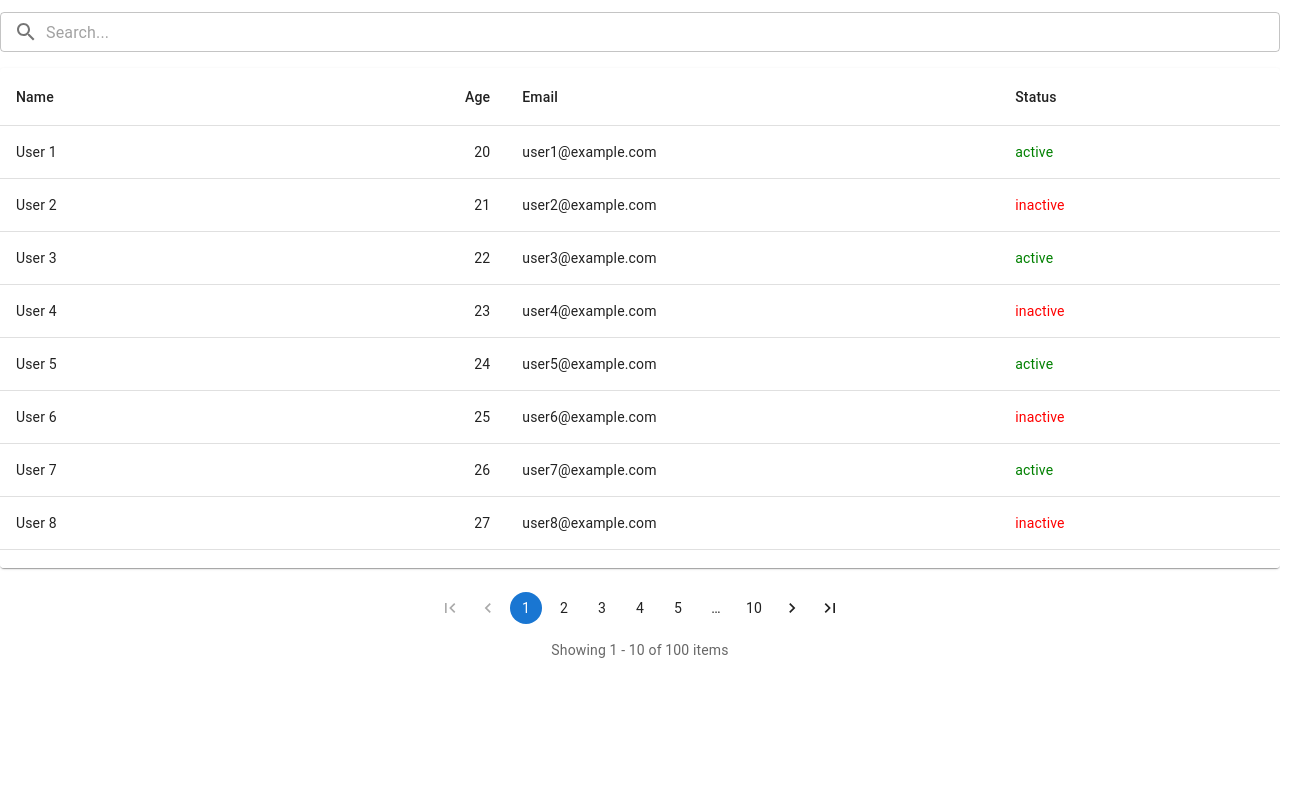
Test case: ModernTable Component › Pagination (Requirement 43.6) › should navigate to next page
# Click next page button (page 2)
Click the button named "Go to page 2". click: {"x": 564, "y": 608}
box: x1=548 y1=592 x2=580 y2=624
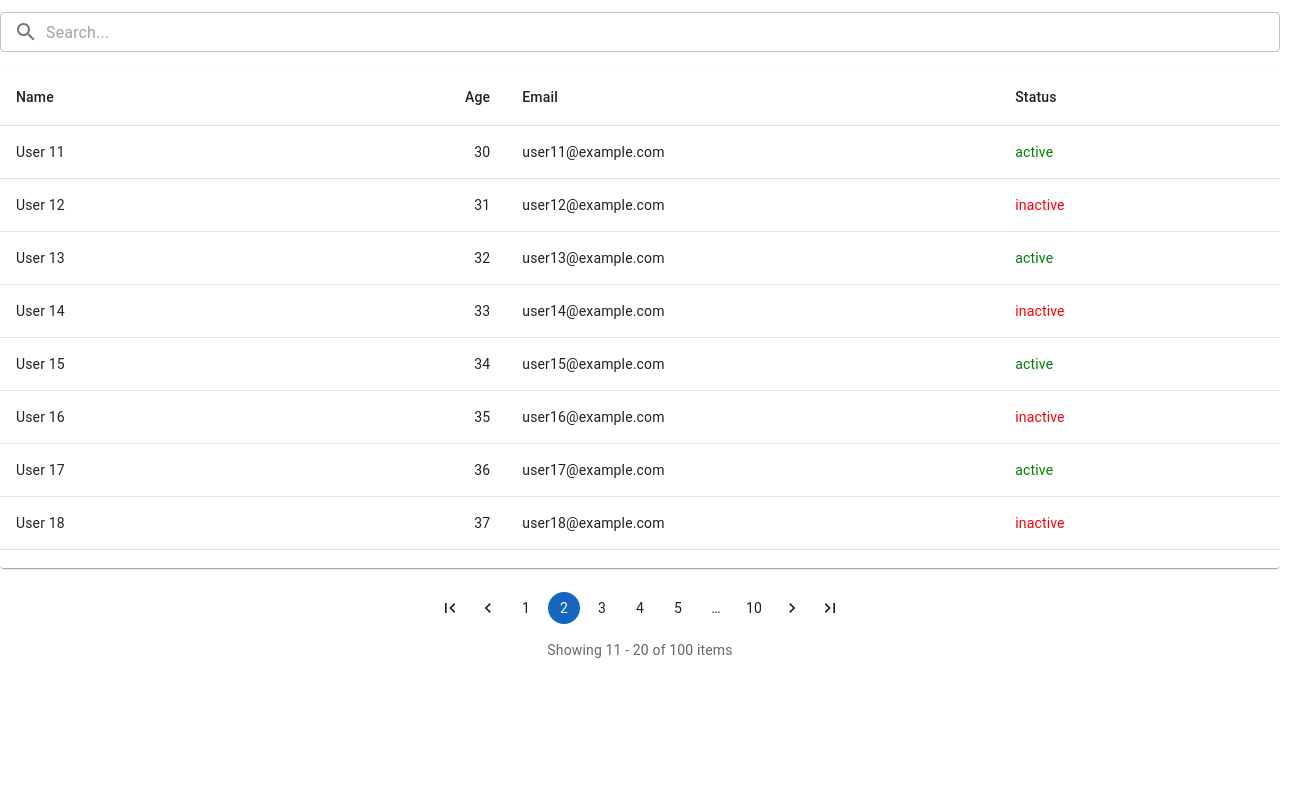
Result: the text "User 11" is shown at x1=0 y1=126 x2=271 y2=179
